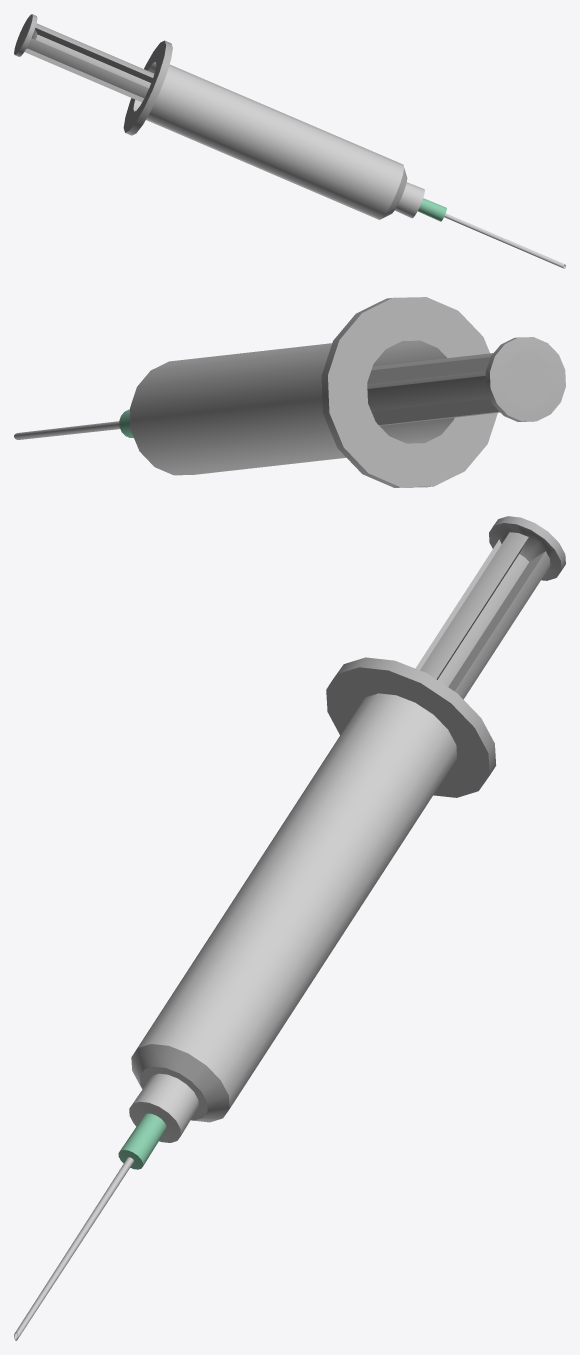
Rendered from Jeringa.fbx.
3 renders of one model, top to bottom at view 1: azimuth 30°, elevation 25°; view 2: azimuth 150°, elevation 25°; view 3: azimuth 270°, elevation 25°, orthographic. The views are drawn at different scales.
Parts seen in each view (by area): view 1: Tube, Sphere; view 2: Tube, Sphere; view 3: Tube, Sphere.
Part boxes in pixels (bbox=[...]): Tube: bbox=[123, 40, 565, 268]; Sphere: bbox=[14, 14, 154, 102]; Tube: bbox=[14, 297, 497, 487]; Sphere: bbox=[367, 337, 565, 425]; Tube: bbox=[14, 657, 496, 1340]; Sphere: bbox=[415, 516, 565, 699].
Size of the model in its own units: 15.92 by 9.11 by 9.83.
